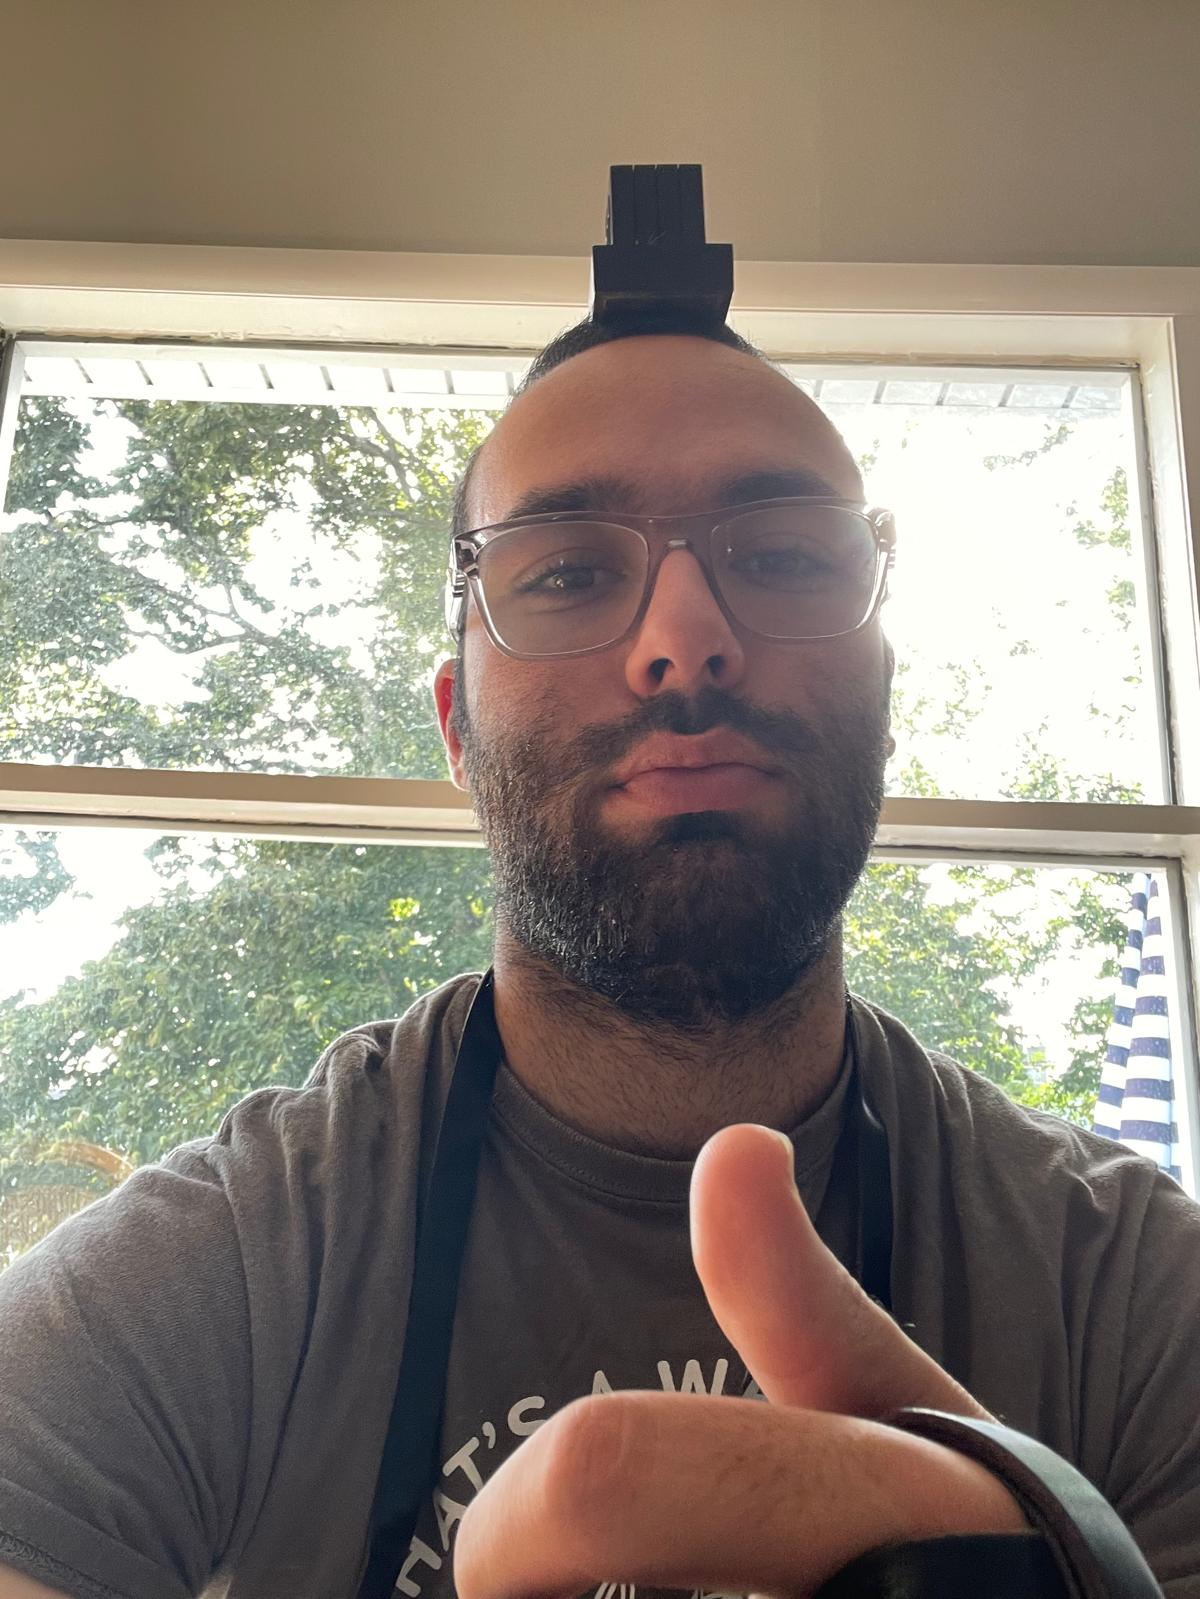tefillin: (590, 161, 734, 319)
